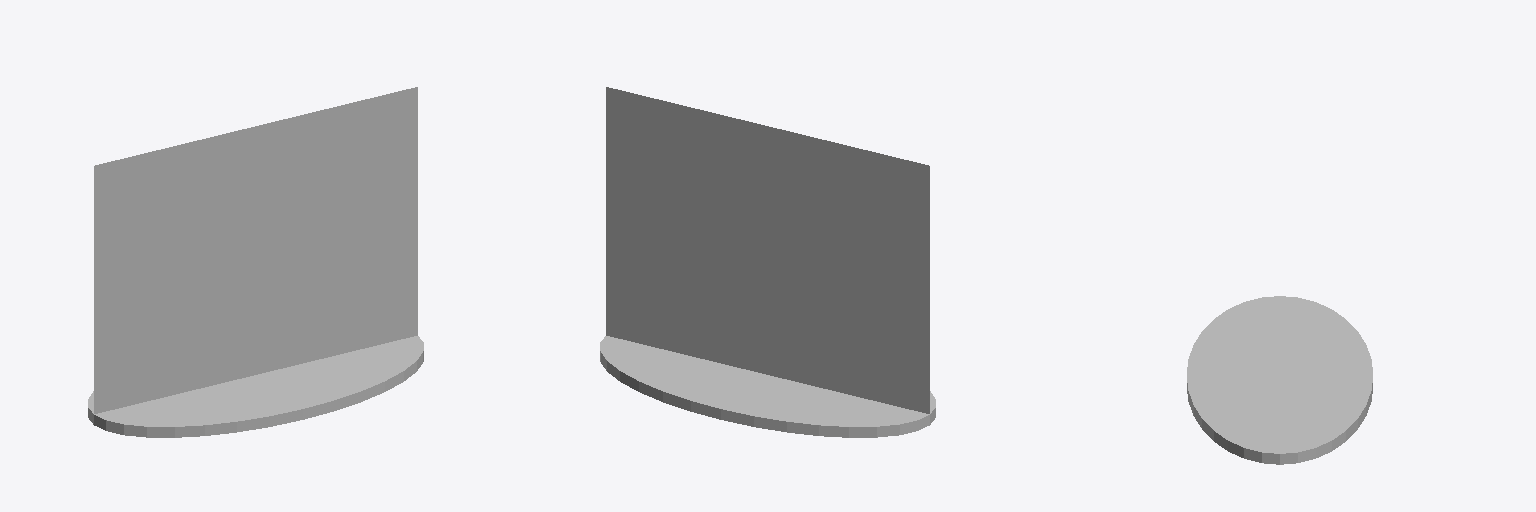
File: WideBaseTabletopFigurine.obj
3 views of the same model, side by side, from view 1: azimuth 30°, elevation 25°; view 2: azimuth 150°, elevation 25°; view 3: azimuth 270°, elevation 25° (orthographic).
Parts seen in each view (by area): view 1: 02-Card-Front_CardFront, 03-Card-Back_CardBack, 01-Base_Base; view 2: 02-Card-Front_CardFront, 03-Card-Back_CardBack, 01-Base_Base; view 3: 01-Base_Base.
Boxes of the visible parts, x1=… form: 02-Card-Front_CardFront: x1=94, y1=87, x2=417, y2=413; 03-Card-Back_CardBack: x1=94, y1=88, x2=417, y2=413; 01-Base_Base: x1=88, y1=336, x2=423, y2=437; 02-Card-Front_CardFront: x1=606, y1=88, x2=929, y2=413; 03-Card-Back_CardBack: x1=606, y1=87, x2=929, y2=413; 01-Base_Base: x1=600, y1=336, x2=935, y2=437; 01-Base_Base: x1=1187, y1=296, x2=1372, y2=464.
Bounding box in the file's own units: 1.88 × 1.44 × 0.94.